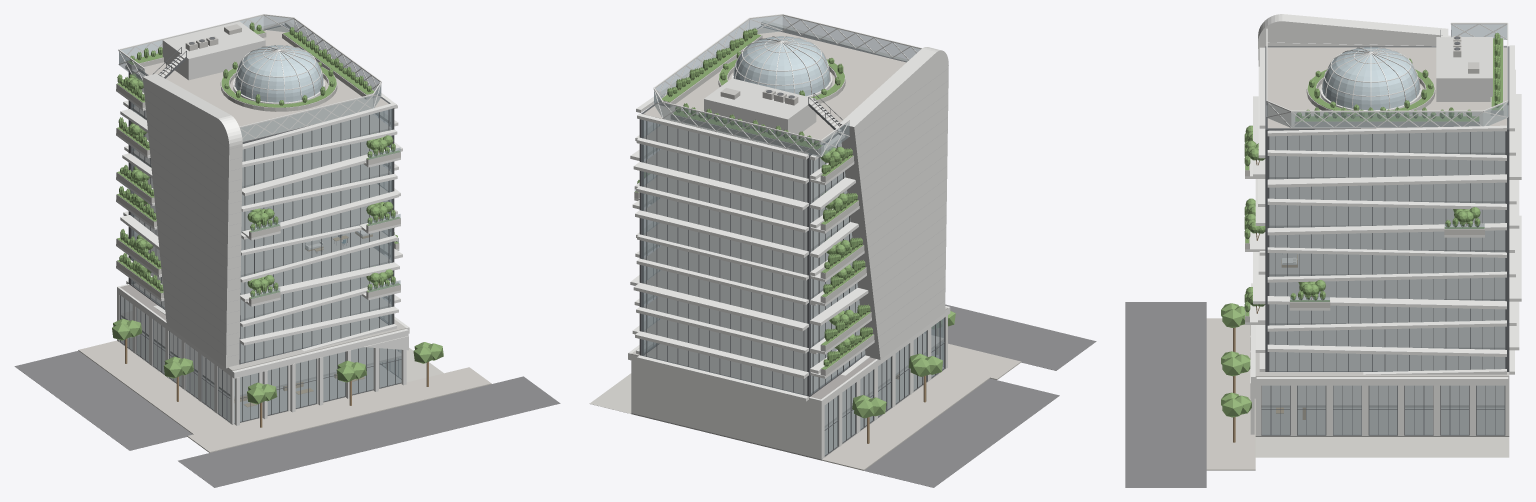
Rendered from clay-student-residence-tower-clay-v002.glb.
The picture shows the model from 3 angles, left to right: view 1: azimuth 30°, elevation 25°; view 2: azimuth 150°, elevation 25°; view 3: azimuth 270°, elevation 25°; orthographic projection. The views are drawn at different scales.
Visible parts, largest first — view 1: CLAY_GLASS, CLAY_FLOOR, CLAY_WHITE, CLAY_WALL, CLAY_ASPHALT, CLAY_SAND, CLAY_PLANTING, CLAY_TRIM, CLAY_CONCRETE, CLAY_FOUNDATION, CLAY_DOMEGLASS, CLAY_PALE (+3 smaller); view 2: CLAY_GLASS, CLAY_WHITE, CLAY_FLOOR, CLAY_WALL, CLAY_ASPHALT, CLAY_SAND, CLAY_TRIM, CLAY_PLANTING, CLAY_CONCRETE, CLAY_DOMEGLASS, CLAY_PALE, CLAY_FOUNDATION (+2 smaller); view 3: CLAY_GLASS, CLAY_FLOOR, CLAY_WHITE, CLAY_ASPHALT, CLAY_SAND, CLAY_TRIM, CLAY_CONCRETE, CLAY_PLANTING, CLAY_FOUNDATION, CLAY_DOMEGLASS, CLAY_WALL, CLAY_PALE (+2 smaller).
Boxes of the visible parts, x1,y1,x2,y2 form: CLAY_GLASS: [119, 15, 401, 422]; CLAY_FLOOR: [120, 88, 401, 397]; CLAY_WHITE: [116, 14, 409, 425]; CLAY_WALL: [142, 73, 242, 368]; CLAY_ASPHALT: [14, 350, 560, 487]; CLAY_SAND: [78, 26, 491, 452]; CLAY_PLANTING: [112, 22, 443, 404]; CLAY_TRIM: [120, 25, 401, 423]; CLAY_CONCRETE: [116, 29, 443, 382]; CLAY_FOUNDATION: [120, 335, 401, 424]; CLAY_DOMEGLASS: [235, 45, 323, 102]; CLAY_PALE: [162, 21, 367, 234]; CLAY_GLASS: [634, 16, 944, 454]; CLAY_WHITE: [628, 14, 950, 459]; CLAY_FLOOR: [643, 125, 943, 427]; CLAY_WALL: [839, 47, 948, 359]; CLAY_ASPHALT: [864, 304, 1096, 487]; CLAY_SAND: [643, 27, 1021, 470]; CLAY_TRIM: [639, 26, 945, 456]; CLAY_PLANTING: [635, 28, 955, 418]; CLAY_CONCRETE: [589, 35, 874, 413]; CLAY_DOMEGLASS: [733, 36, 829, 96]; CLAY_PALE: [704, 78, 816, 136]; CLAY_FOUNDATION: [631, 367, 945, 460]; CLAY_GLASS: [1262, 24, 1507, 434]; CLAY_FLOOR: [1261, 47, 1505, 407]; CLAY_WHITE: [1245, 22, 1521, 435]; CLAY_ASPHALT: [1125, 302, 1206, 487]; CLAY_SAND: [1206, 47, 1506, 470]; CLAY_TRIM: [1261, 46, 1509, 435]; CLAY_CONCRETE: [1245, 38, 1509, 457]; CLAY_PLANTING: [1221, 32, 1502, 417]; CLAY_FOUNDATION: [1255, 407, 1509, 436]; CLAY_DOMEGLASS: [1322, 47, 1419, 110]; CLAY_WALL: [1258, 14, 1448, 66]; CLAY_PALE: [1282, 37, 1492, 263].
Bounding box in the file's own units: 58 × 46.74 × 48.7.
